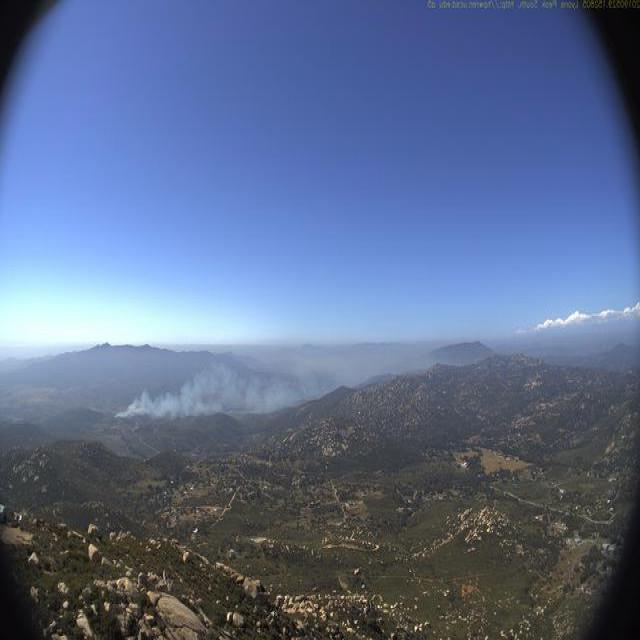Smoke: (116, 346, 378, 426)
